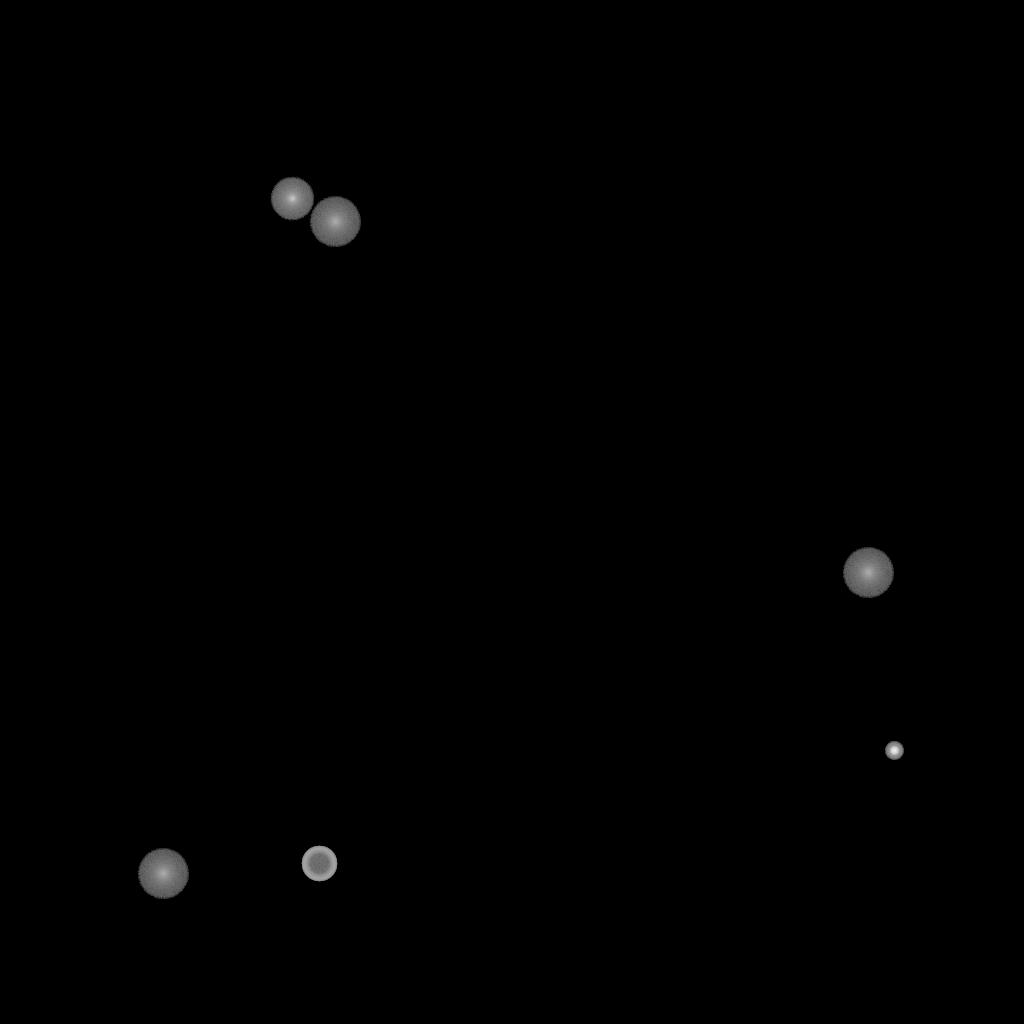depth:-20: (885, 742, 903, 760)
depth:-60: (301, 846, 337, 882)
depth:10: (270, 177, 314, 221)
depth:20: (137, 849, 189, 899), (842, 548, 894, 598), (309, 197, 361, 247)
